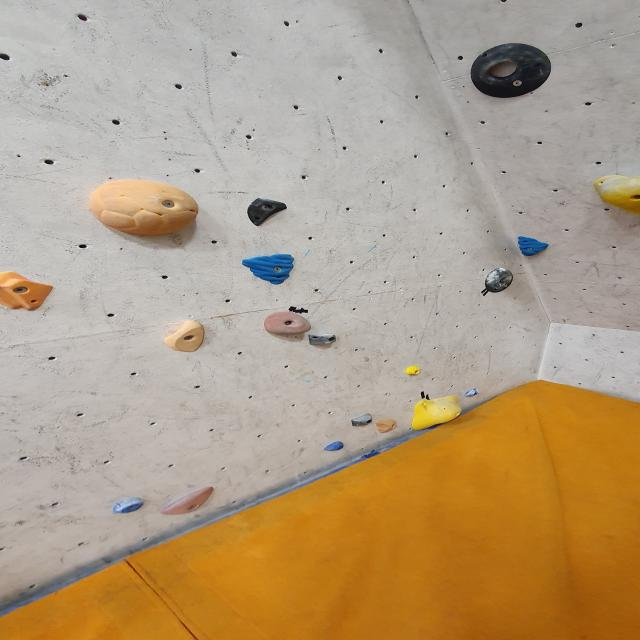Crimp: (160, 486, 219, 516), (242, 256, 296, 285), (518, 237, 552, 258), (110, 498, 145, 515), (322, 444, 345, 454), (405, 364, 423, 375), (464, 388, 479, 396)
Jug: (262, 312, 311, 337)
Pinch: (161, 322, 207, 355), (484, 268, 514, 294), (306, 334, 338, 348), (349, 415, 376, 427)
Pocket: (465, 40, 558, 103)
Sloper: (79, 175, 210, 237), (0, 271, 56, 312), (592, 172, 640, 216), (410, 394, 463, 430), (375, 419, 399, 434)
